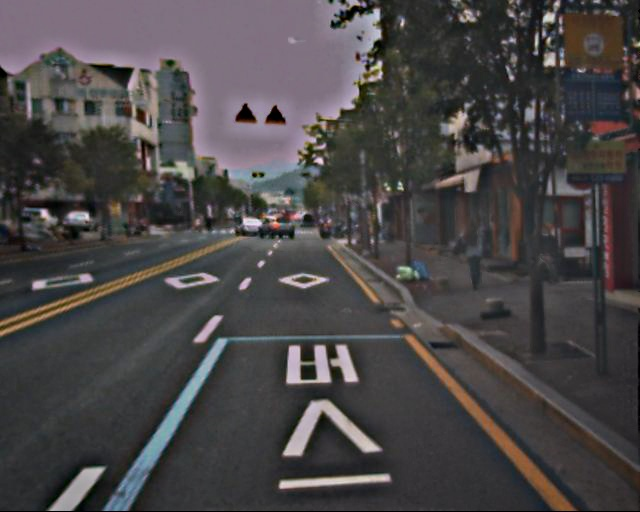person: (460, 218, 489, 288), (529, 224, 556, 285)
